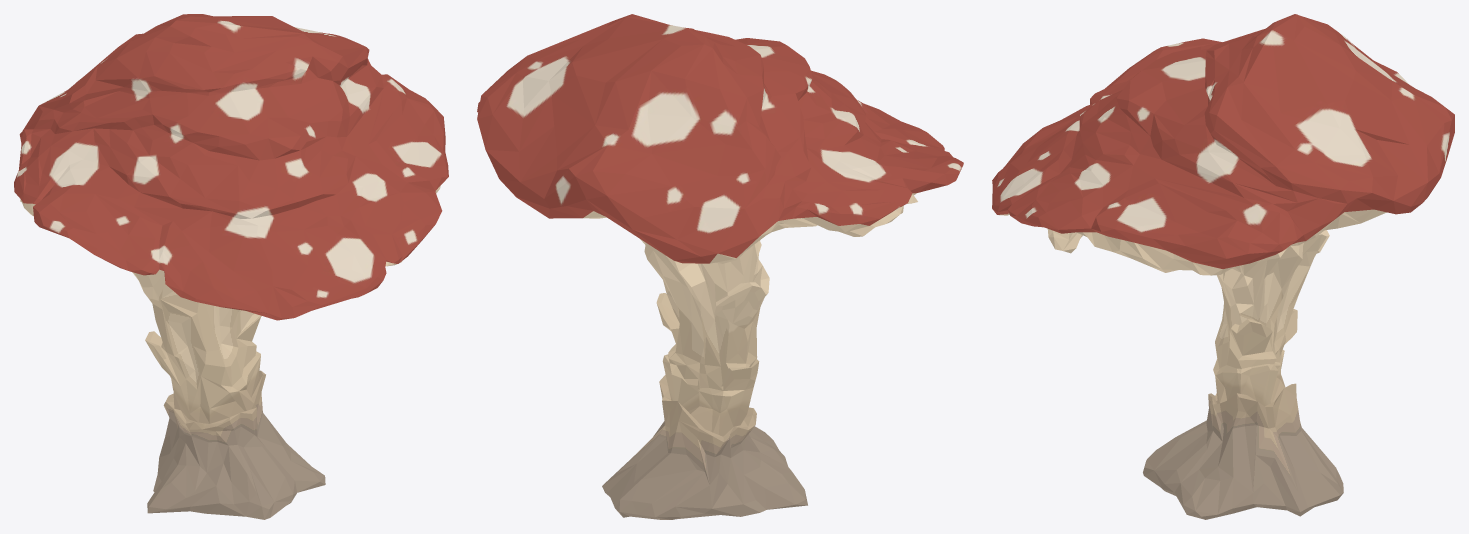
Rendered from SM_Env_Mushroom_02.gltf.
3 renders of one model, left to right at view 1: azimuth 30°, elevation 25°; view 2: azimuth 150°, elevation 25°; view 3: azimuth 270°, elevation 25°, orthographic. The views are drawn at different scales.
Parts seen in each view (by area): view 1: SM_Env_Mushroom_02_LOD0; view 2: SM_Env_Mushroom_02_LOD0; view 3: SM_Env_Mushroom_02_LOD0.
Boxes of the visible parts, x1,y1,x2,y2 form: SM_Env_Mushroom_02_LOD0: (14,14,448,519); SM_Env_Mushroom_02_LOD0: (477,14,963,519); SM_Env_Mushroom_02_LOD0: (992,14,1454,519).
Size of the model in its own units: 6.24 by 6.4 by 5.85.
1 material, 1 textured.
